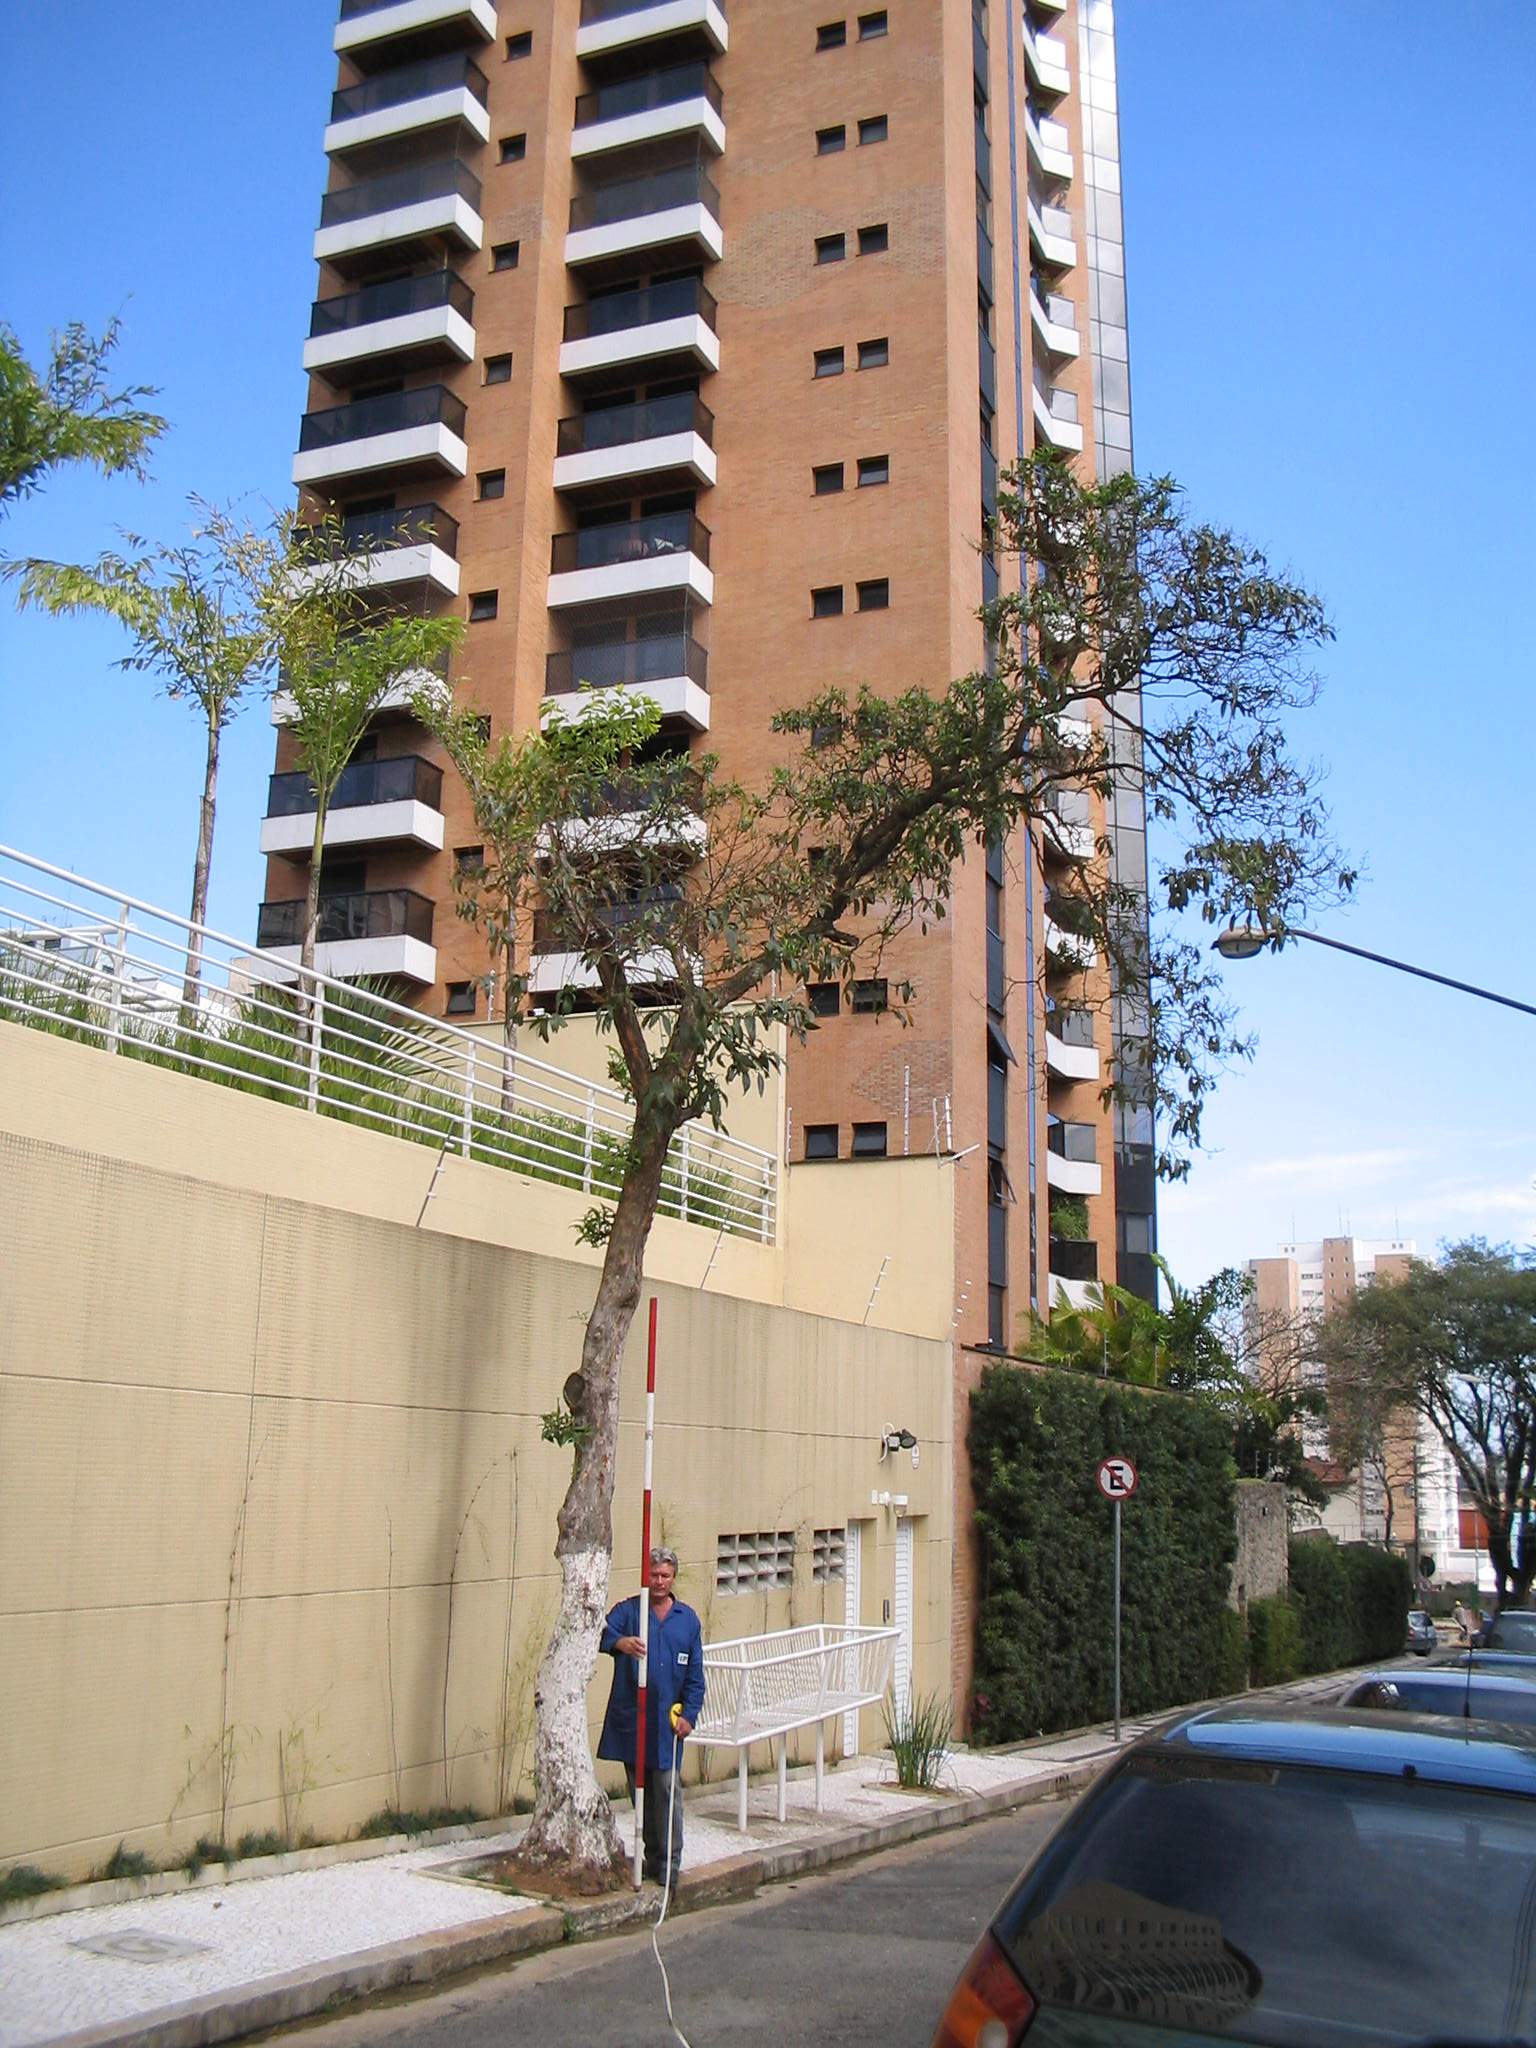crown: (432, 468, 1371, 1250)
stem: (495, 1108, 644, 1882)
stick: (608, 1300, 687, 1896)
tree: (419, 461, 1383, 1887)
